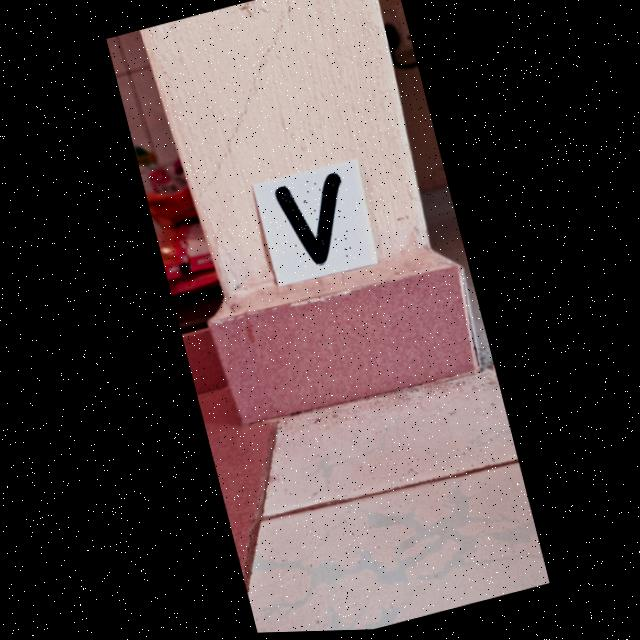V: (273, 175, 339, 266)
